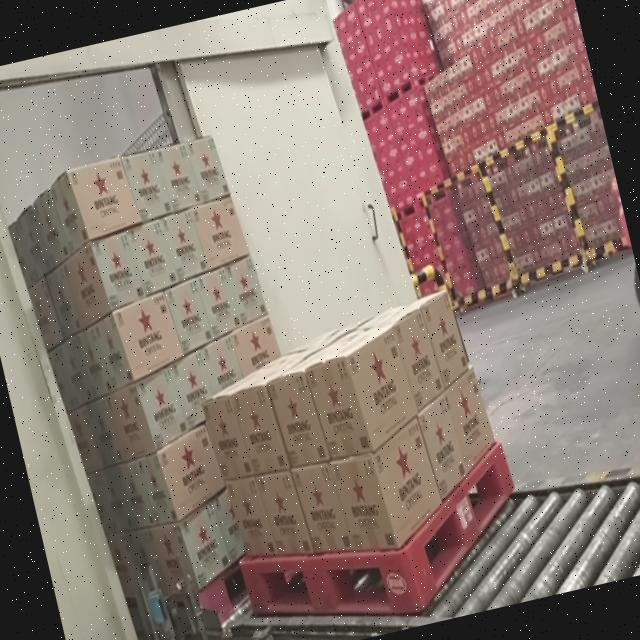pallet: (0, 115, 340, 640), (179, 291, 549, 640)
